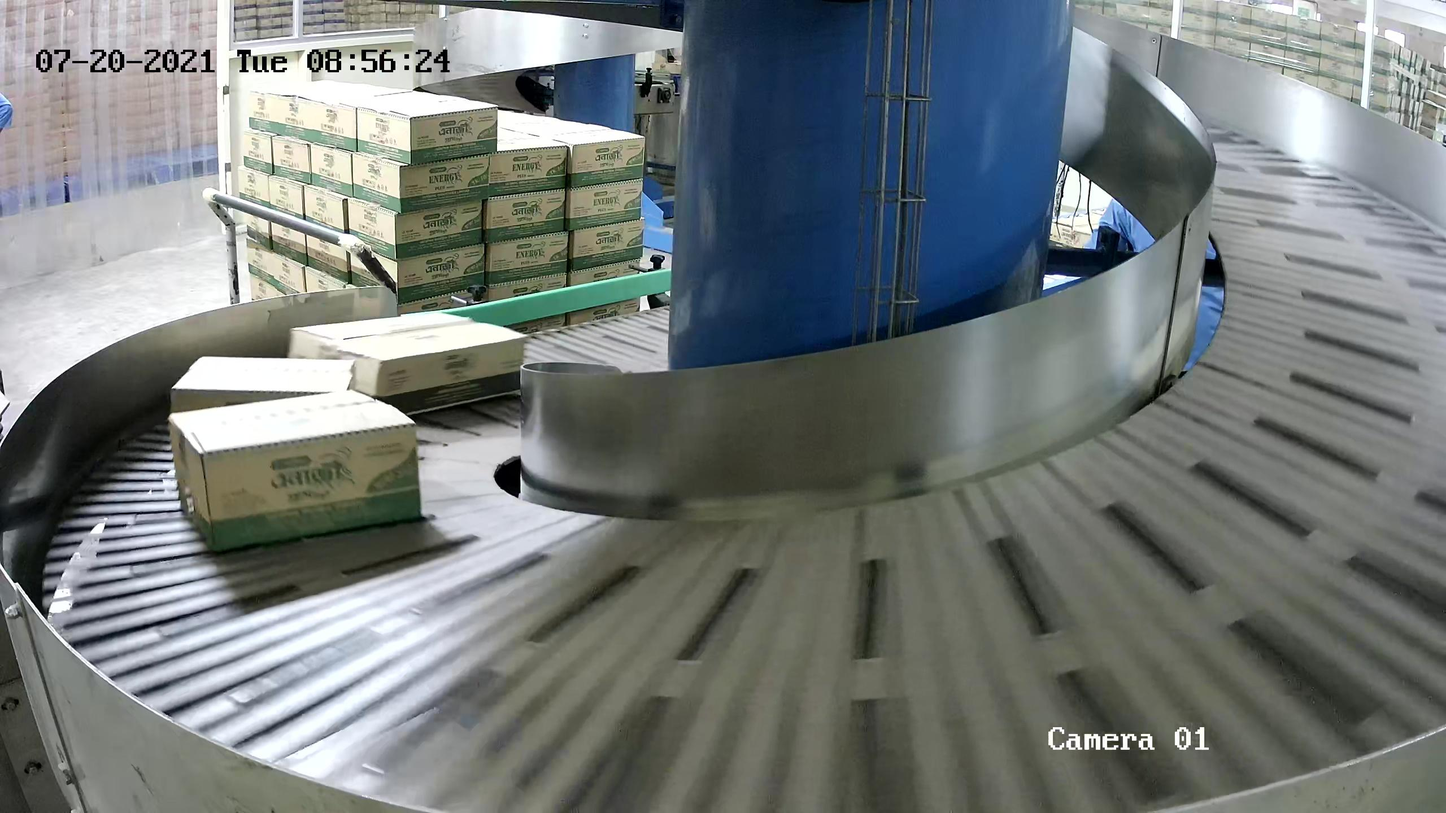Box: (167, 387, 425, 555), (286, 309, 529, 418)
